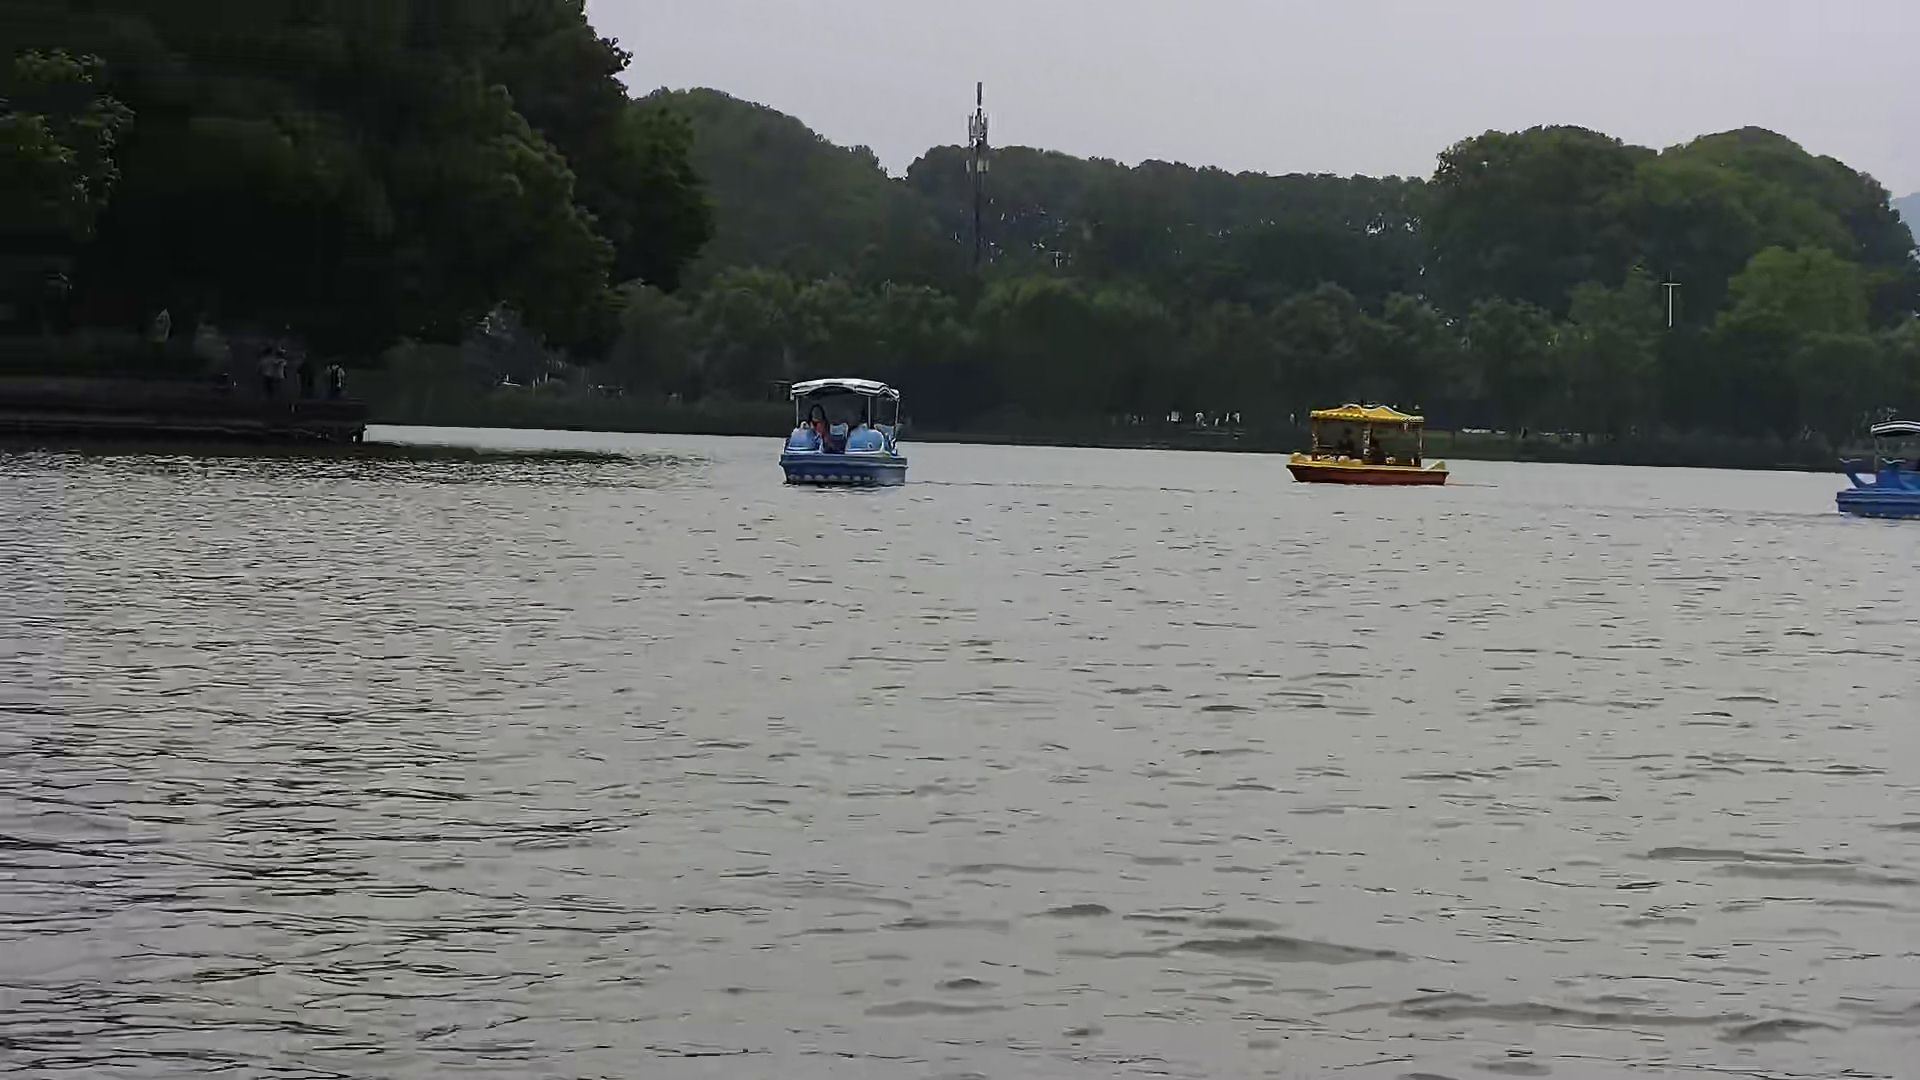boat: (767, 361, 905, 487), (1291, 389, 1461, 487), (1820, 406, 1920, 524)
